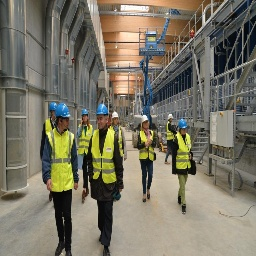helmet: (54, 100, 74, 125), (94, 104, 110, 119), (176, 115, 190, 131), (138, 113, 150, 128), (80, 110, 90, 122), (166, 112, 174, 124), (112, 110, 118, 123)
person: (40, 99, 81, 256), (85, 102, 126, 256), (170, 119, 198, 216), (136, 112, 158, 205), (76, 107, 96, 204), (164, 108, 177, 170)
vest: (46, 128, 77, 196), (90, 125, 120, 192), (173, 129, 191, 175), (136, 129, 155, 170), (78, 124, 94, 158), (166, 119, 174, 145)
